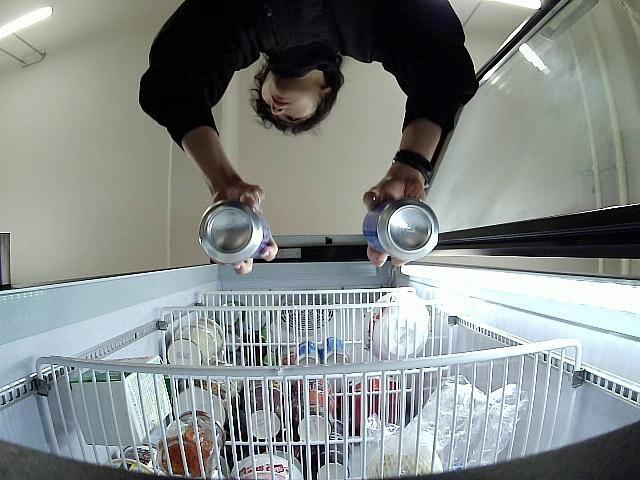13_pocariSweat: (198, 202, 270, 266), (364, 200, 438, 262)
